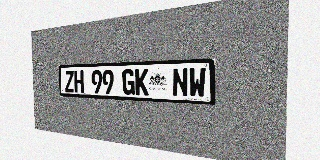9: (102, 70, 114, 94), (91, 70, 102, 94)
G: (122, 69, 135, 95)
H: (74, 70, 84, 93)
K: (135, 69, 148, 96)
N: (172, 68, 188, 97)
W: (189, 67, 206, 98)
Z: (65, 71, 74, 93)
